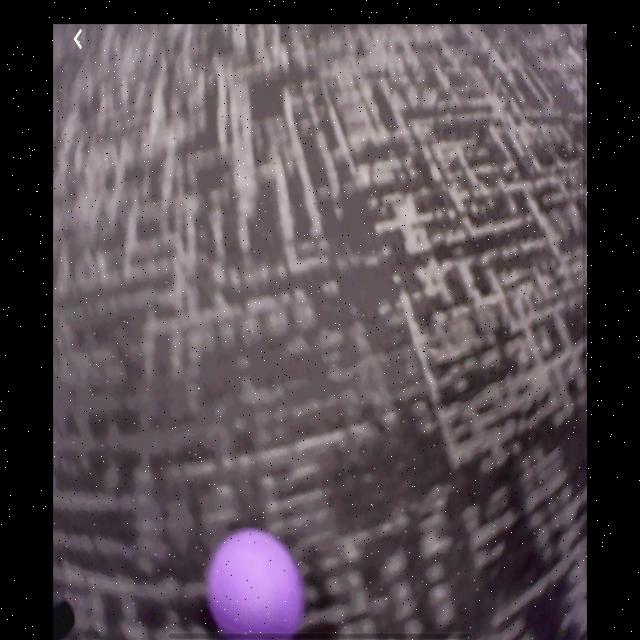ball: (210, 529, 304, 636)
